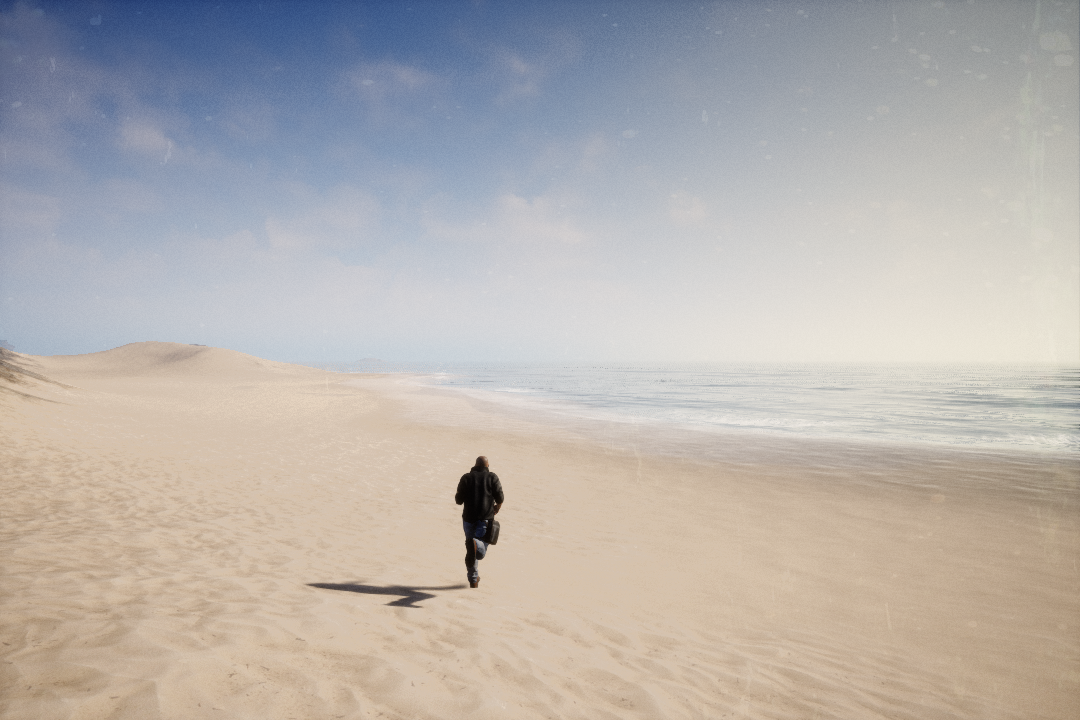person: (447, 451, 515, 591)
